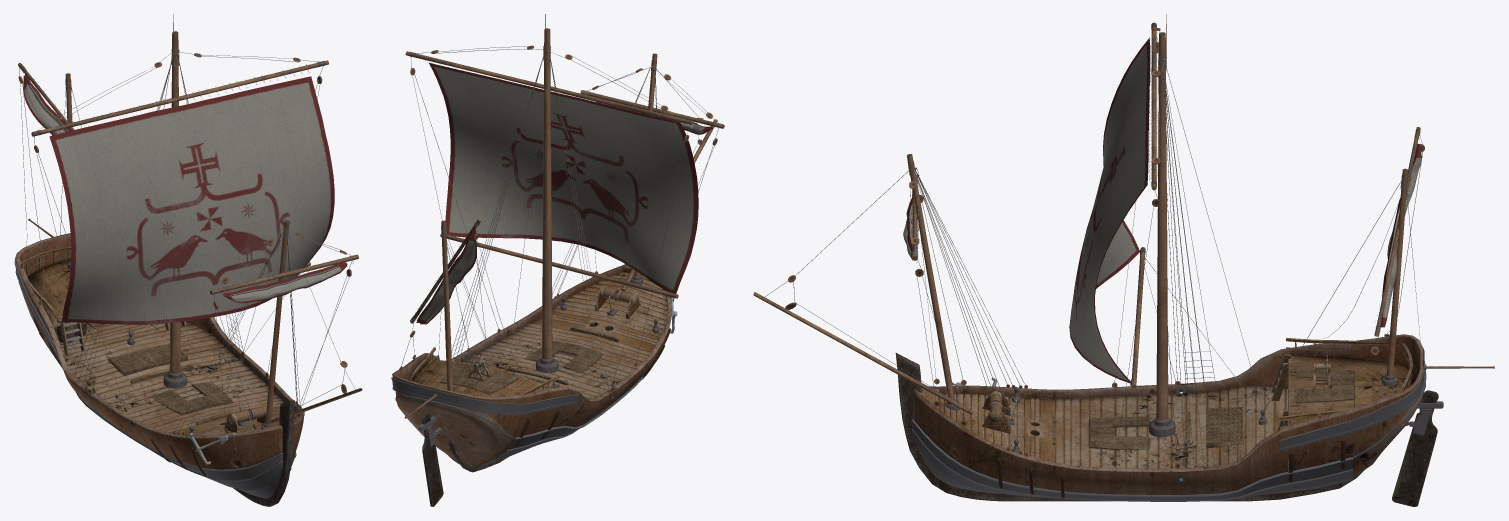
The picture shows the model from 3 angles, left to right: view 1: azimuth 30°, elevation 25°; view 2: azimuth 150°, elevation 25°; view 3: azimuth 270°, elevation 25°; orthographic projection. The views are drawn at different scales.
Parts seen in each view (by area): view 1: 0, DeckDetailPlank002_Poopdeck_0, BackBorder_Hull_0, AdtMastTopRope_MastsRigging_0, Barrel002_DeckStuff_0; view 2: 0, AdtMastTopRope_MastsRigging_0, BackBorder_Hull_0, DeckDetailPlank002_Poopdeck_0, Barrel002_DeckStuff_0; view 3: BackBorder_Hull_0, DeckDetailPlank002_Poopdeck_0, AdtMastTopRope_MastsRigging_0, 0, Barrel002_DeckStuff_0.
Boxes of the visible parts, box(x1,y1,x2,y2) form: 0: box(49, 76, 334, 324); DeckDetailPlank002_Poopdeck_0: box(28, 259, 298, 435); BackBorder_Hull_0: box(14, 233, 304, 506); AdtMastTopRope_MastsRigging_0: box(18, 14, 362, 461); Barrel002_DeckStuff_0: box(21, 247, 273, 464); 0: box(429, 62, 698, 293); AdtMastTopRope_MastsRigging_0: box(399, 14, 724, 418); BackBorder_Hull_0: box(391, 264, 671, 506); DeckDetailPlank002_Poopdeck_0: box(411, 265, 667, 399); Barrel002_DeckStuff_0: box(408, 276, 677, 417); BackBorder_Hull_0: box(895, 334, 1443, 506); DeckDetailPlank002_Poopdeck_0: box(919, 354, 1410, 468); AdtMastTopRope_MastsRigging_0: box(753, 14, 1494, 470); 0: box(1069, 38, 1150, 383); Barrel002_DeckStuff_0: box(945, 338, 1413, 452).
Size of the model in its own units: 138 by 193 by 265.
Materials: 5 (5 with a texture image).
